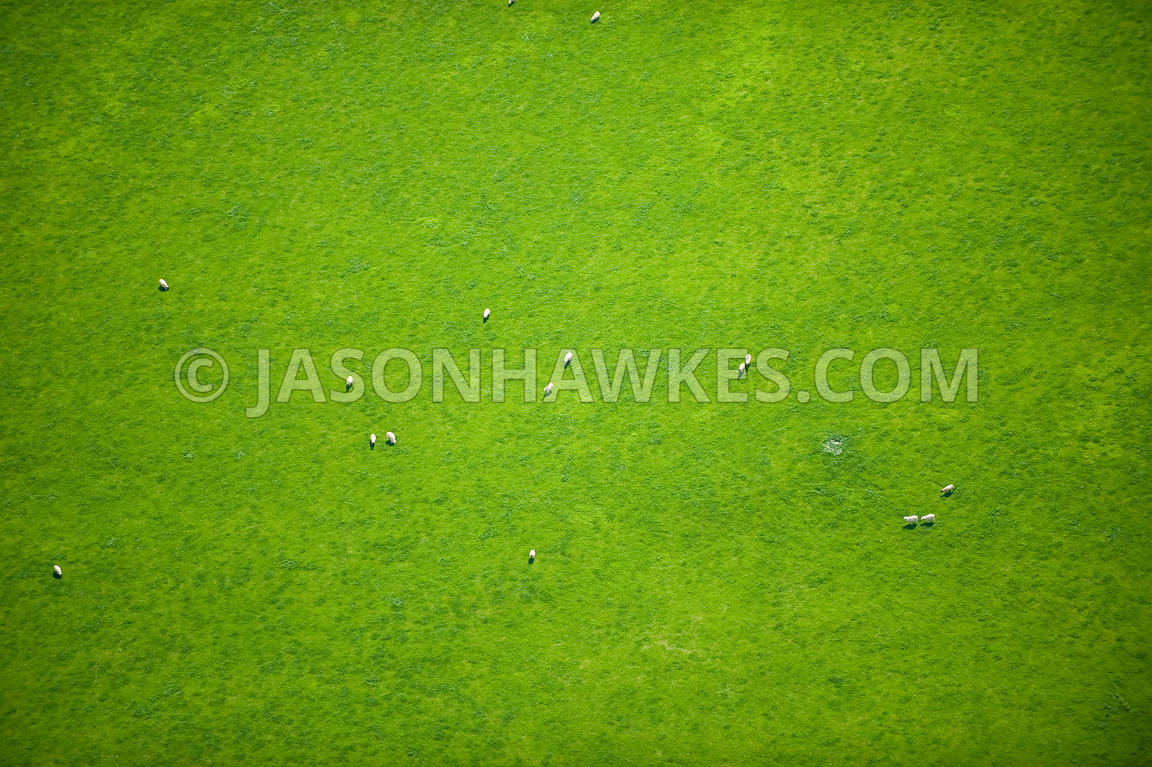sheep: (920, 513, 935, 525), (902, 515, 919, 525), (386, 431, 397, 445), (941, 485, 954, 495), (159, 278, 168, 291), (564, 352, 573, 365), (590, 11, 600, 22), (53, 565, 62, 577), (346, 374, 354, 387), (369, 432, 377, 445), (483, 308, 490, 320), (529, 548, 535, 560), (737, 364, 745, 373), (745, 354, 751, 365)
